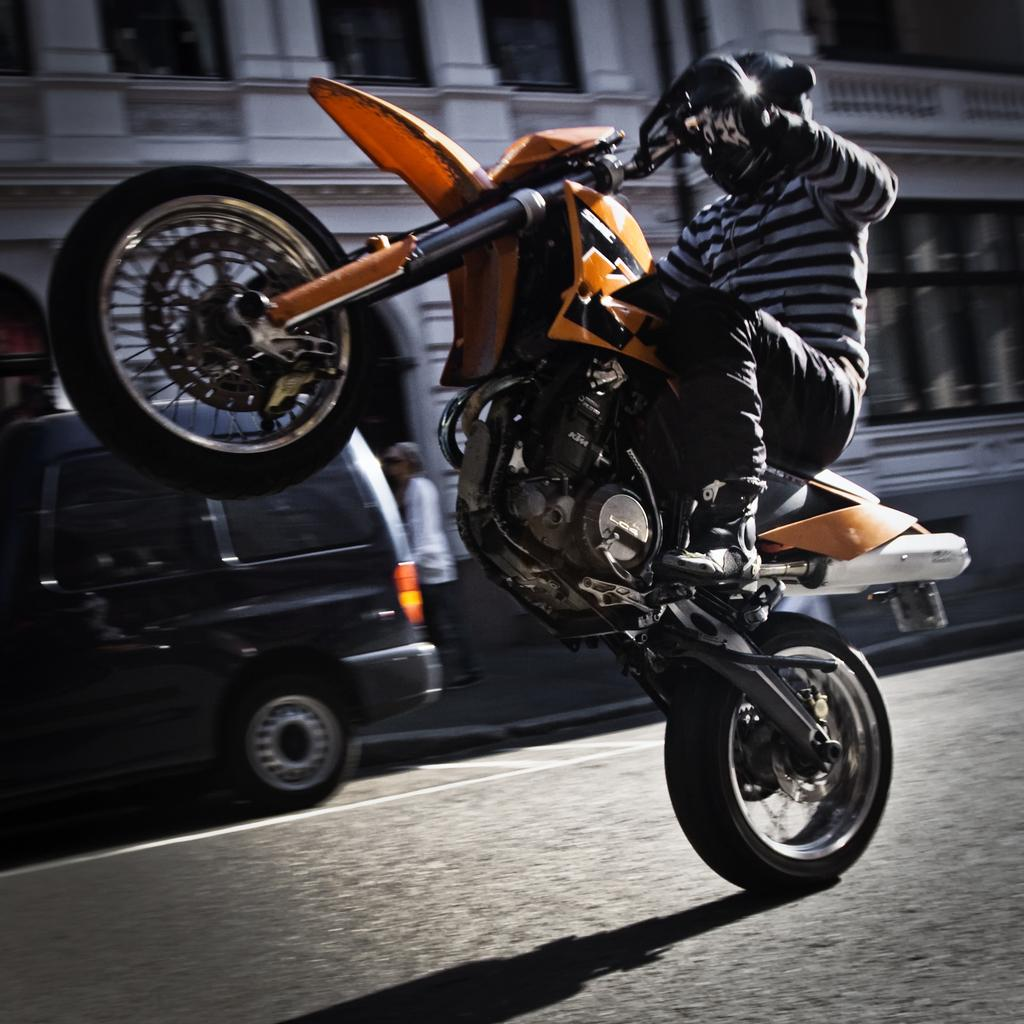helmet: (684, 49, 813, 197)
